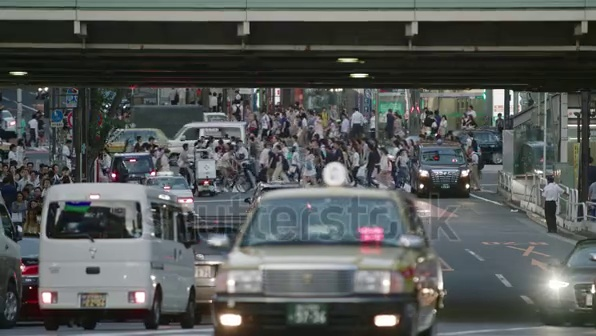licenseplate: (287, 296, 332, 326), (82, 287, 109, 311)
